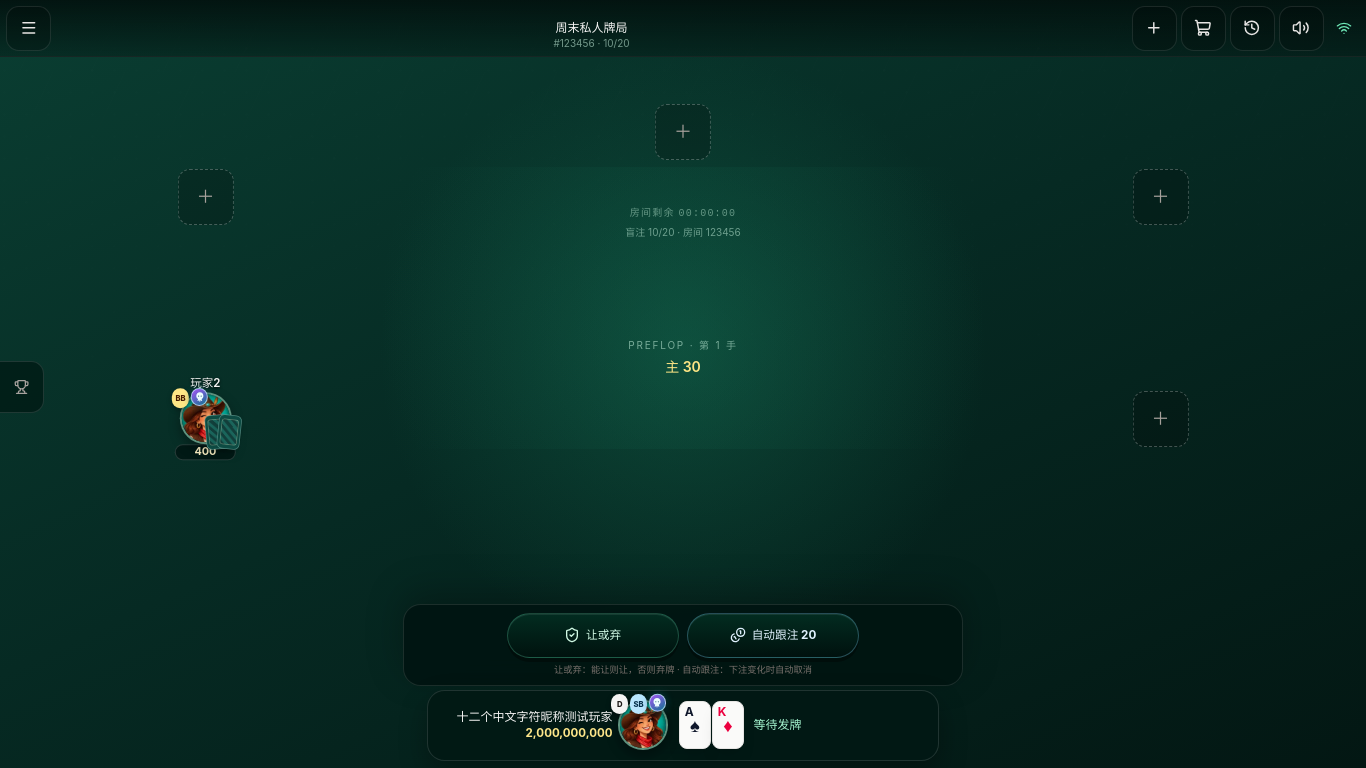
Test case: stand and spectator lifecycle › retries a stale stand once with canonical authority at 6 seats in NORMAL
Click the button named "打开牌桌菜单". click: [29, 28]
box: [6,6,51,51]
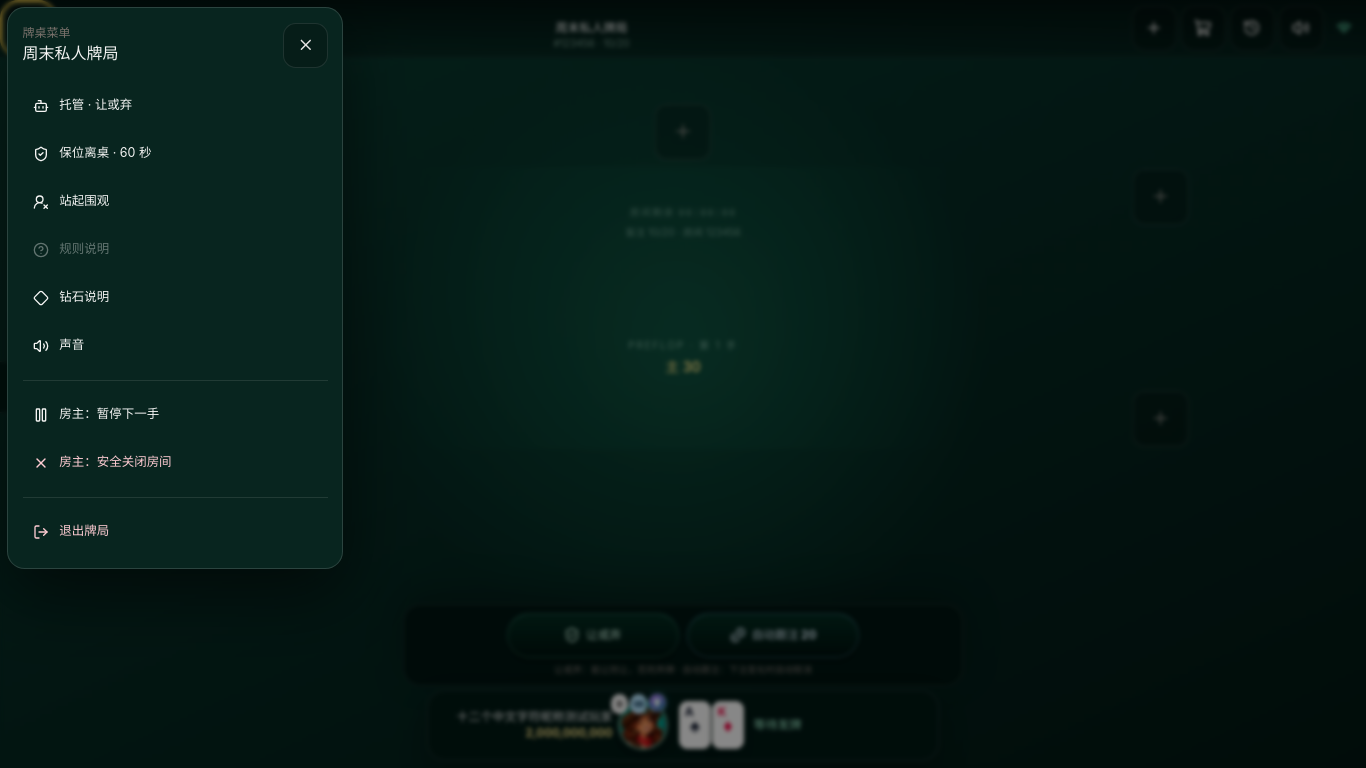
Click the button "站起围观". click: [84, 201]
box: [23,180,328,224]
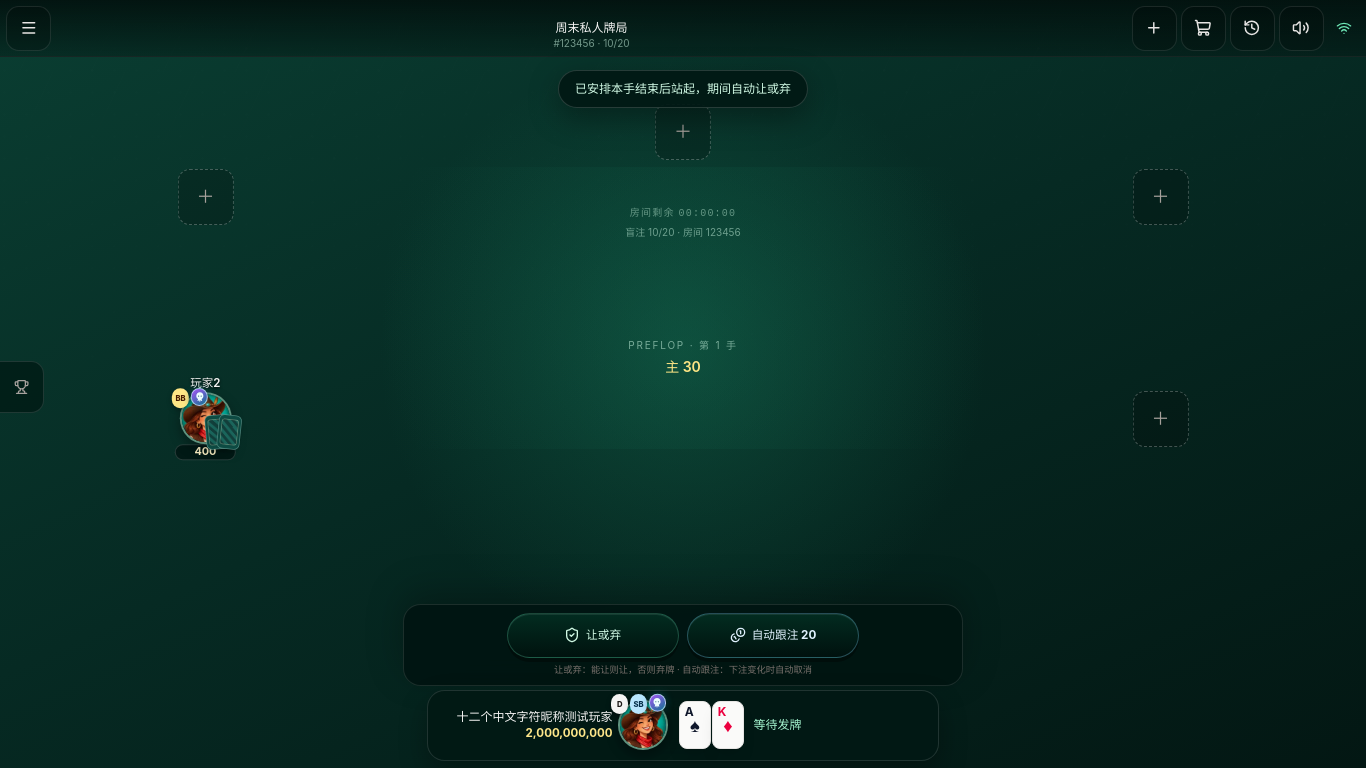
Check: the text "牌桌菜单" is gone
